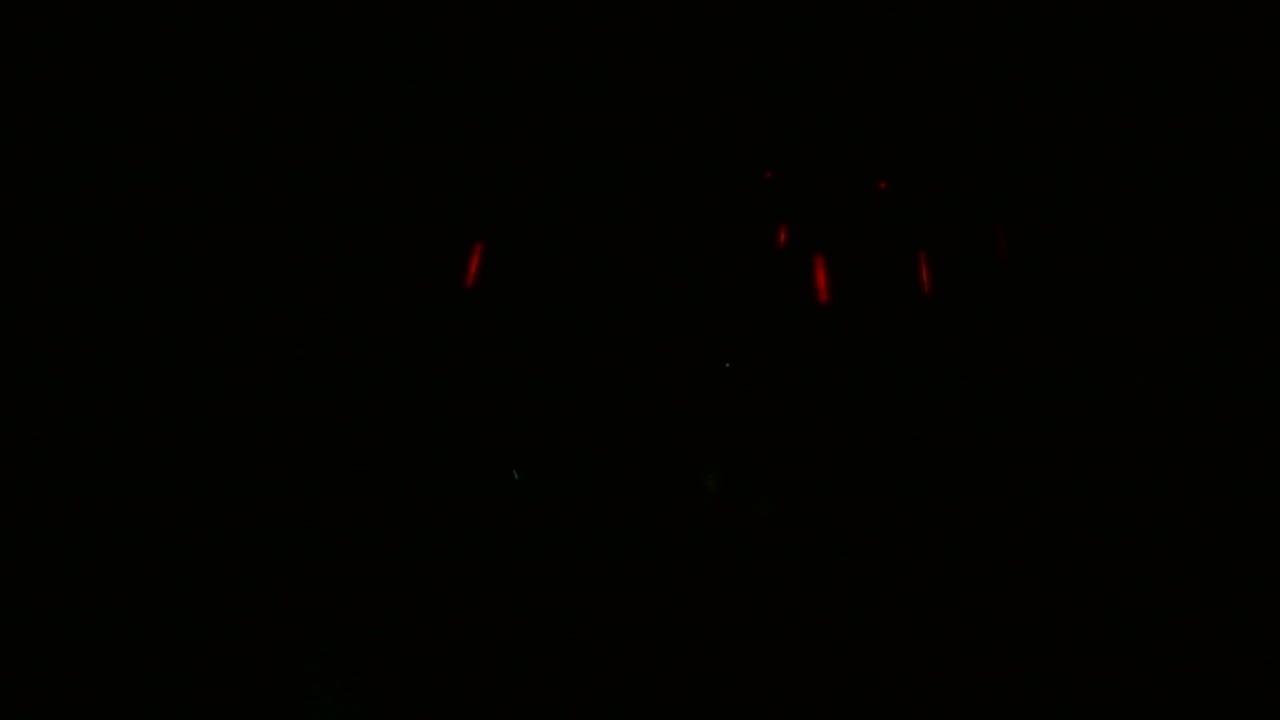pair1: (807, 255, 935, 301)
